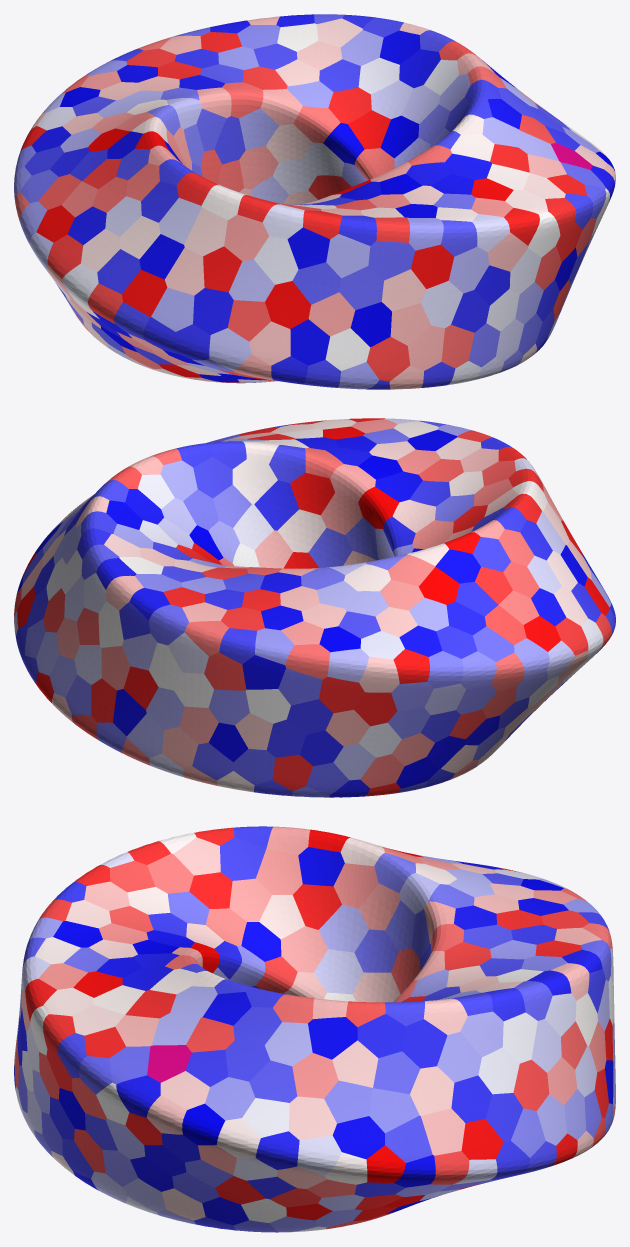
File: Ours_600_mobius1_Iter9_RVD.obj
The picture shows the model from 3 angles, top to bottom: view 1: azimuth 30°, elevation 25°; view 2: azimuth 150°, elevation 25°; view 3: azimuth 270°, elevation 25°; orthographic projection. The views are drawn at different scales.
Parts seen in each view (by area): view 1: 3D_Object; view 2: 3D_Object; view 3: 3D_Object.
Part boxes in pixels (left/top/right/bottom): 3D_Object: left=14, top=14, right=615, bottom=389; 3D_Object: left=14, top=418, right=615, bottom=797; 3D_Object: left=14, top=826, right=615, bottom=1232.
Size of the model in its own units: 6.8 by 2.63 by 6.26.
1 material, 1 textured.
